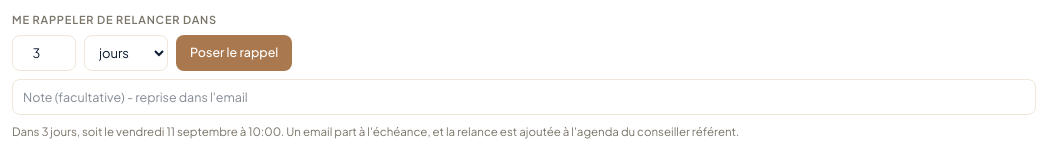
RappelForm › accorde le libellé au singulier
Replace the text in the number field named "Délai" with "1" at (44, 52), box [12,34,76,70]
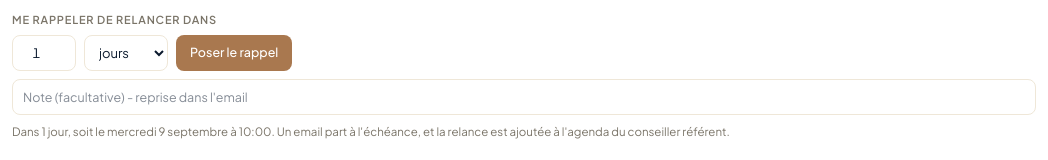
Expected: the text "Dans 1 jour," is shown, [12,124,730,138]
